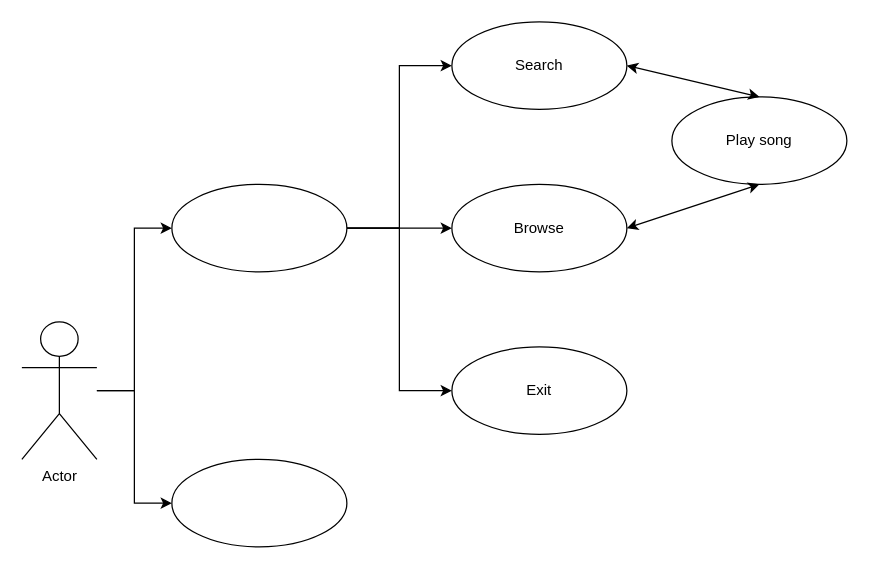
Some shapes in this 869 by 569 pixel diagram are drawn without their labels. Here are the shapes that lost their labels. From the top down, the centre of each, then its label:
At (259,227): "Login".
At (259,502): "Signup".
